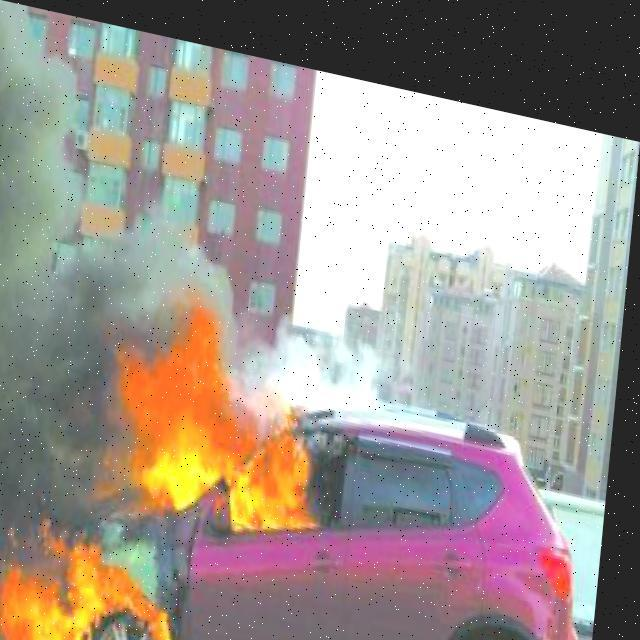Fire: (0, 275, 350, 639)
